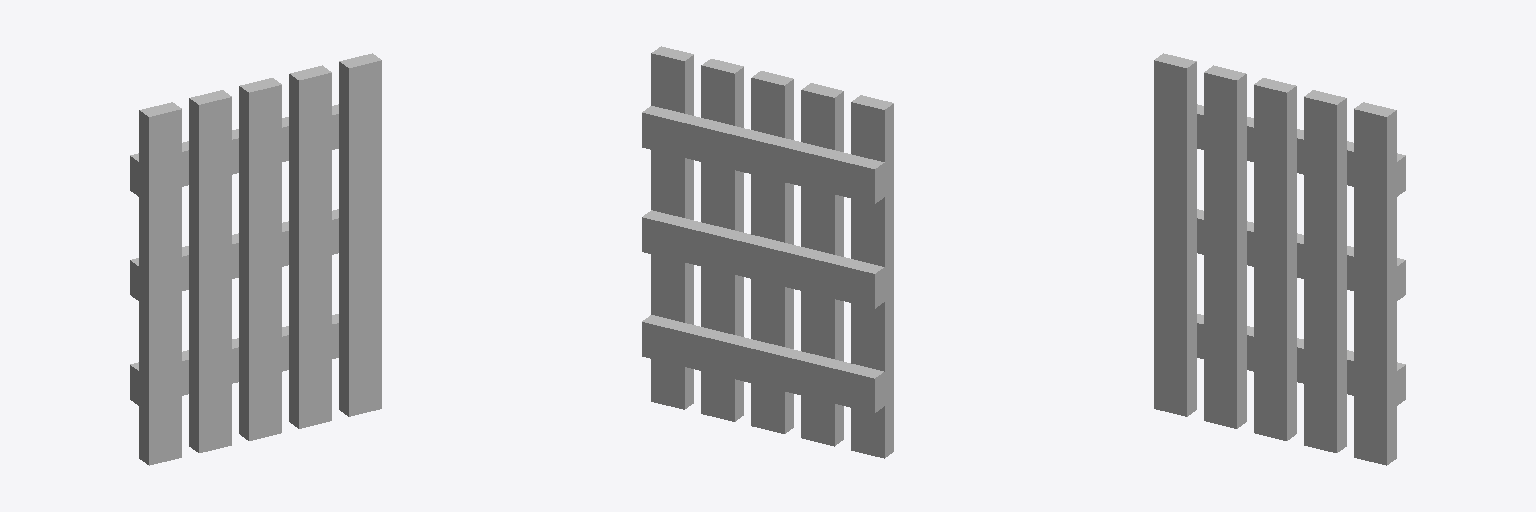
File: Fence.obj
The picture shows the model from 3 angles: view 1: azimuth 30°, elevation 25°; view 2: azimuth 150°, elevation 25°; view 3: azimuth 330°, elevation 25°; orthographic projection.
Parts seen in each view (by area): view 1: object 1; view 2: object 1; view 3: object 1.
Boxes of the visible parts, x1,y1,x2,y2 form: object 1: [130, 53, 381, 465]; object 1: [642, 46, 893, 458]; object 1: [1154, 53, 1405, 465].
Size of the model in its own units: 1.4 by 2 by 0.2.